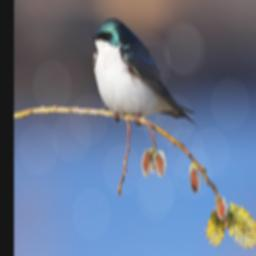Swallow: (88, 17, 197, 124)
